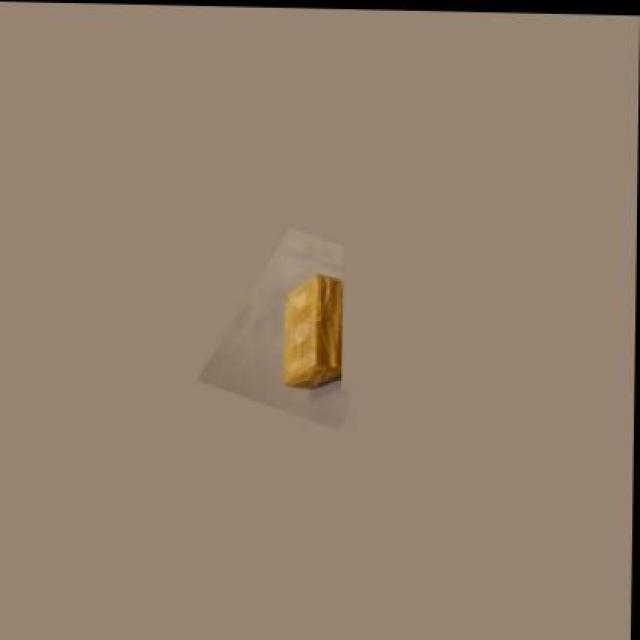box: (286, 272, 340, 387)
